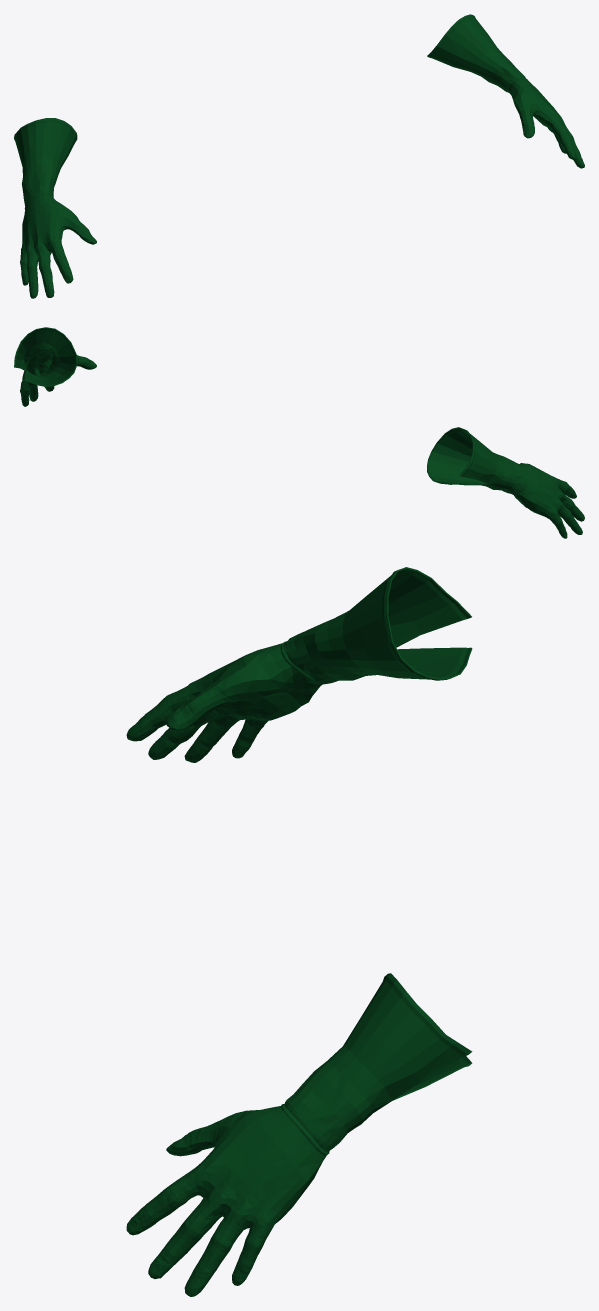
The model's file is mhw_culturalibre_hero-heroine_gloves_3.glb.
3 renders of one model, top to bottom at view 1: azimuth 30°, elevation 25°; view 2: azimuth 150°, elevation 25°; view 3: azimuth 270°, elevation 25°, orthographic. The views are drawn at different scales.
Parts seen in each view (by area): view 1: mhw_culturalibre_hero-heroine_gloves_3; view 2: mhw_culturalibre_hero-heroine_gloves_3; view 3: mhw_culturalibre_hero-heroine_gloves_3.
Part boxes in pixels (x1,y1,x2,y2): mhw_culturalibre_hero-heroine_gloves_3: (14, 14, 584, 298); mhw_culturalibre_hero-heroine_gloves_3: (14, 327, 584, 538); mhw_culturalibre_hero-heroine_gloves_3: (126, 567, 472, 1296).
Bounding box in the file's own units: 1.22 × 0.268 × 0.3307.
Materials: 1 (1 with a texture image).
